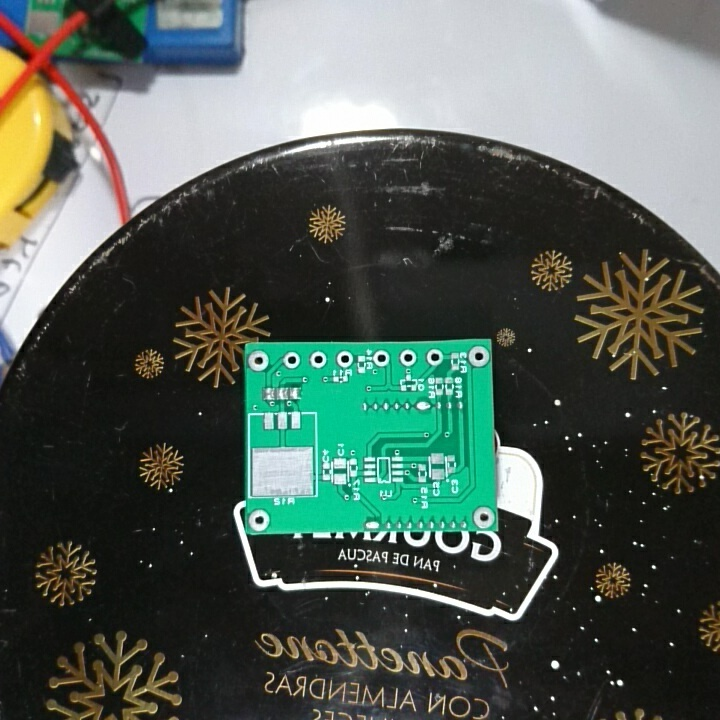F: (246, 349, 273, 373), (246, 508, 271, 533), (470, 505, 496, 529), (466, 346, 488, 367), (281, 349, 302, 369), (423, 348, 445, 367), (397, 347, 418, 366), (307, 351, 330, 368), (333, 349, 355, 366), (372, 349, 393, 365)
P: (361, 515, 383, 534), (413, 398, 433, 415)
